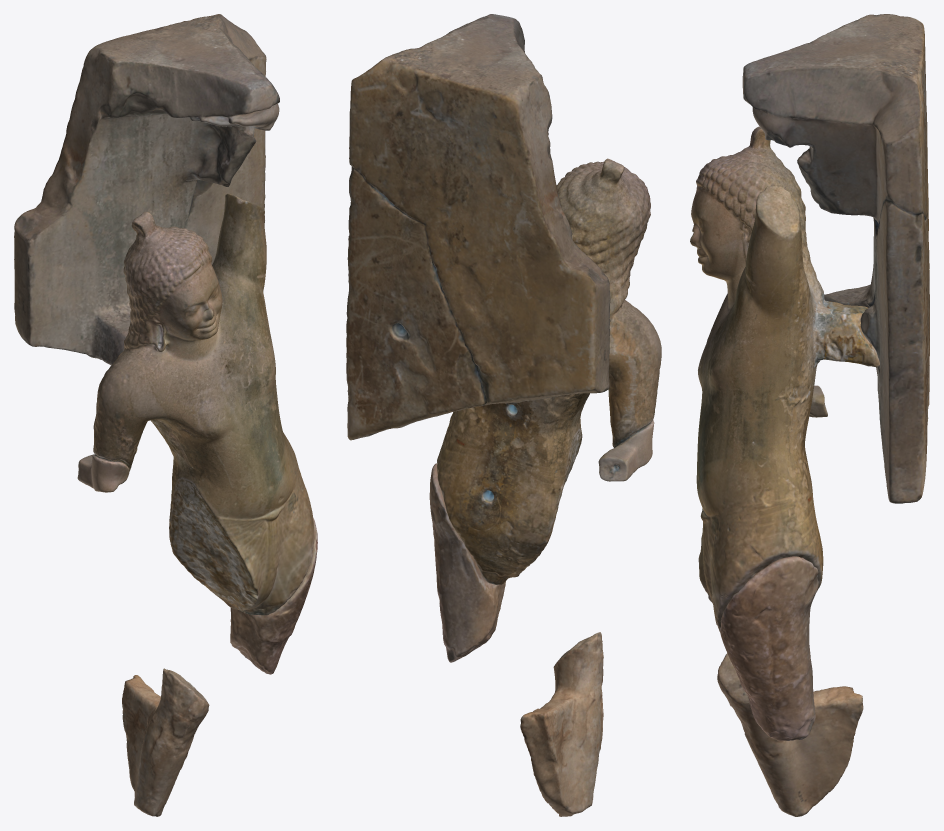
The model's file is preview.glb.
The picture shows the model from 3 angles, left to right: view 1: azimuth 30°, elevation 25°; view 2: azimuth 150°, elevation 25°; view 3: azimuth 270°, elevation 25°; orthographic projection. The views are drawn at different scales.
Visible parts, largest first — view 1: Krishna Thigh Patch; view 2: Krishna Thigh Patch; view 3: Krishna Thigh Patch.
Part boxes in pixels (left/top/right/bottom): Krishna Thigh Patch: left=14, top=14, right=317, bottom=816; Krishna Thigh Patch: left=346, top=14, right=661, bottom=816; Krishna Thigh Patch: left=690, top=14, right=929, bottom=816.
Bounding box in the file's own units: 0.6903 × 2.03 × 0.5516.
Materials: 1 (1 with a texture image).
